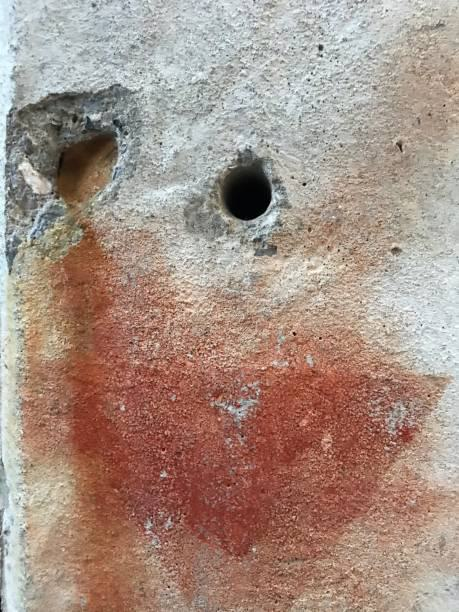Corrosion: (15, 220, 459, 612)
Spalling: (1, 83, 142, 277), (209, 147, 291, 240)
